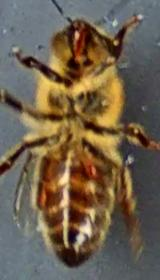varroa_mite: (29, 174, 53, 213), (78, 153, 108, 184)
